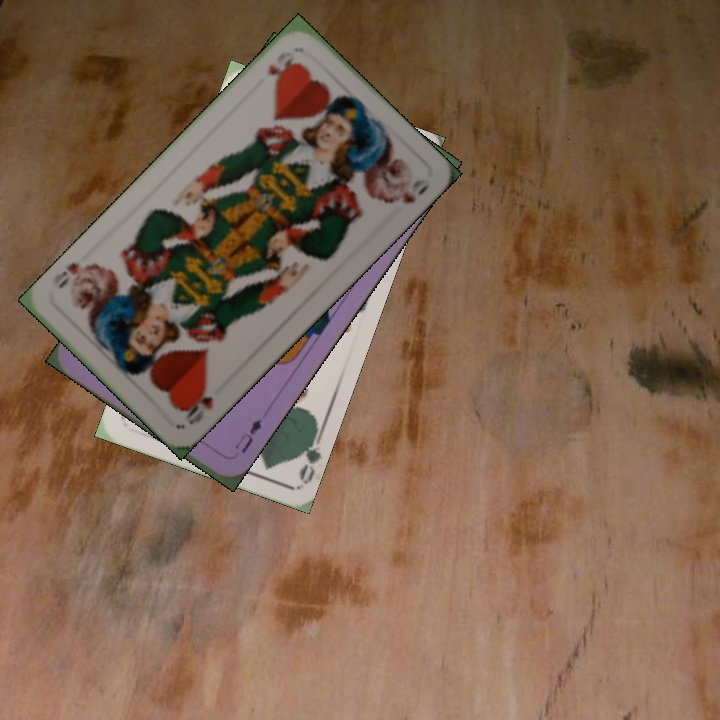EU: (230, 414, 265, 456)
GO: (292, 426, 326, 486)
HO: (178, 382, 216, 428), (262, 49, 298, 87)
